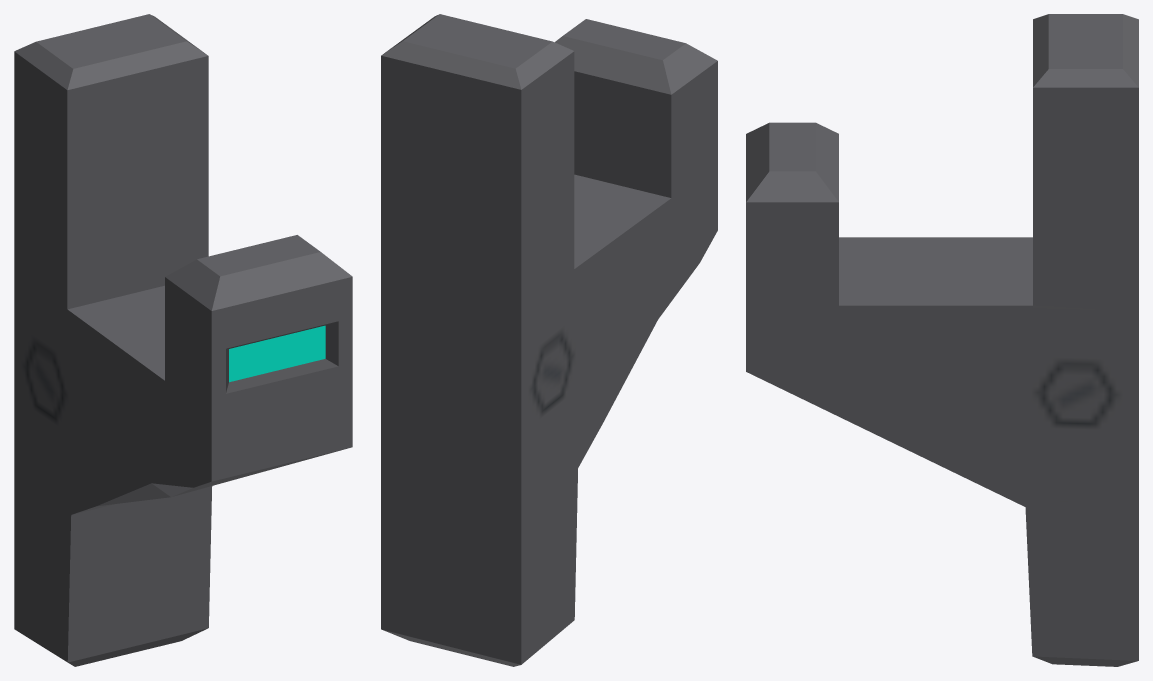
File: SM_Prop_Weapon_Rack_03.fbx
3 views of the same model, side by side, from view 1: azimuth 30°, elevation 25°; view 2: azimuth 150°, elevation 25°; view 3: azimuth 270°, elevation 25° (orthographic).
Visible parts, largest first — view 1: SM_Prop_Weapon_Rack_03; view 2: SM_Prop_Weapon_Rack_03; view 3: SM_Prop_Weapon_Rack_03.
Boxes of the visible parts, box(x1,y1,x2,y2) form: SM_Prop_Weapon_Rack_03: box(14, 14, 352, 666); SM_Prop_Weapon_Rack_03: box(381, 14, 717, 666); SM_Prop_Weapon_Rack_03: box(746, 14, 1138, 666).
Bounding box in the file's own units: 8.52 × 34.86 × 20.64.
